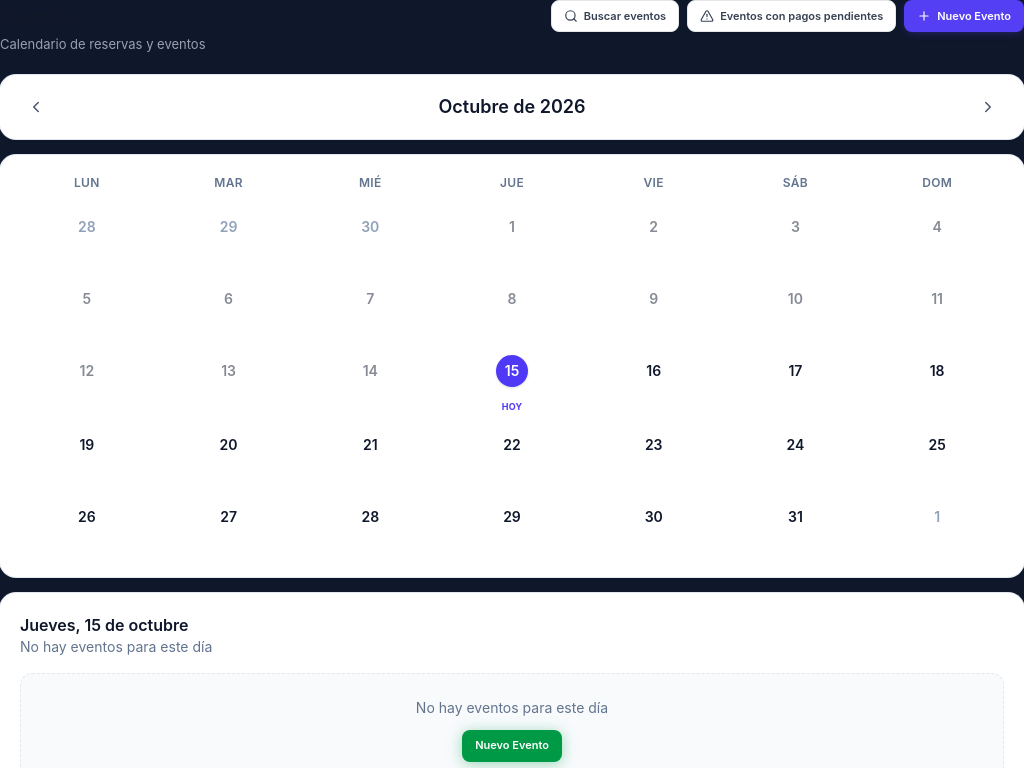
Test case: EventosPage › bloquea crear cliente si el numero tiene menos digitos de los esperados
The image size is (1024, 768).
Click the 1st button "Nuevo Evento": (964, 16) [904,0,1023,32]
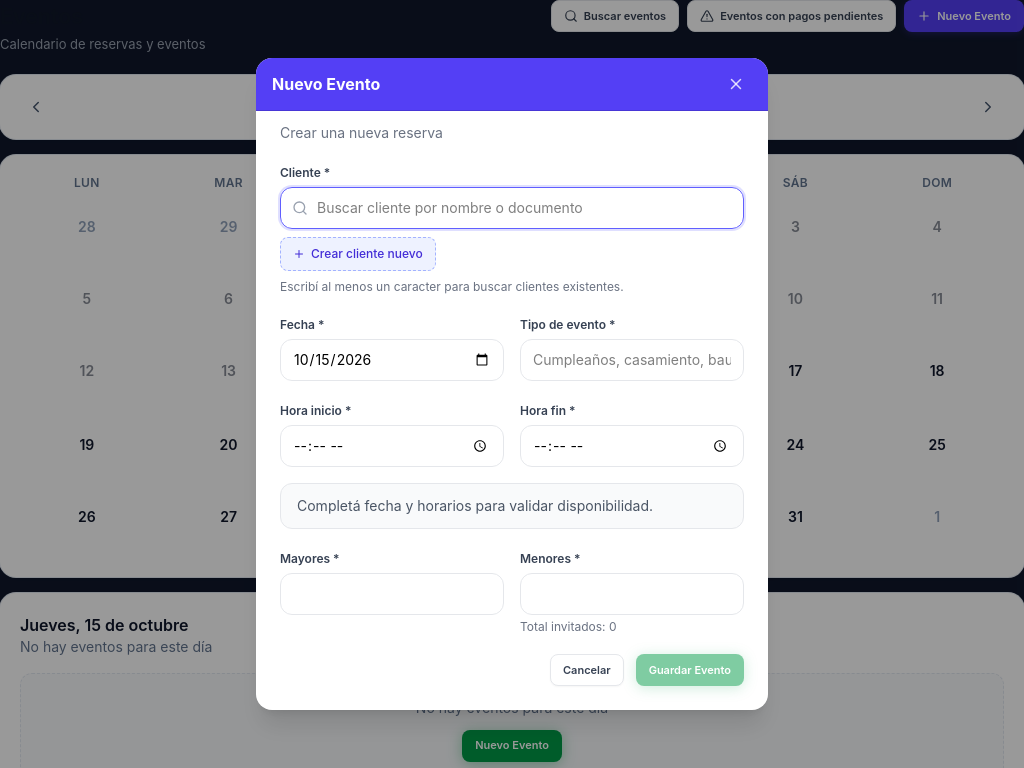
Click the button "Crear cliente nuevo": (358, 254) [280,237,436,271]
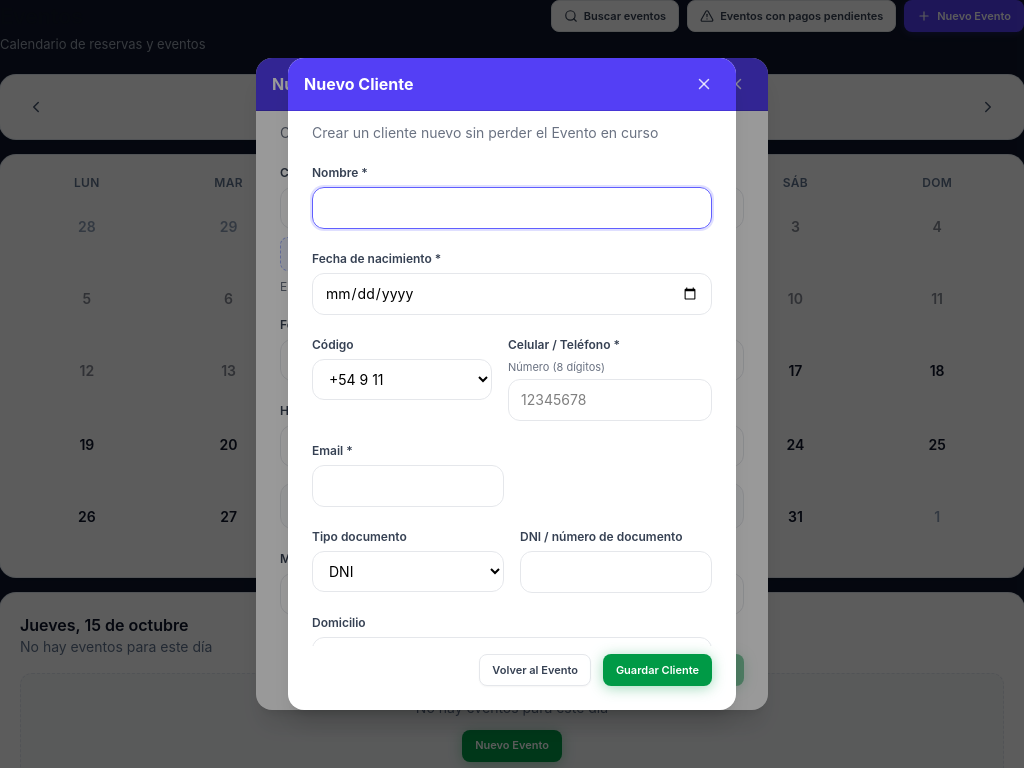
In the field labelled "Nombre *": (512, 208) [312,187,712,229], type "Cliente Nuevo"
In the date field labelled "Fecha de nacimiento *": (512, 294) [312,273,712,315], type "1990-01-01"
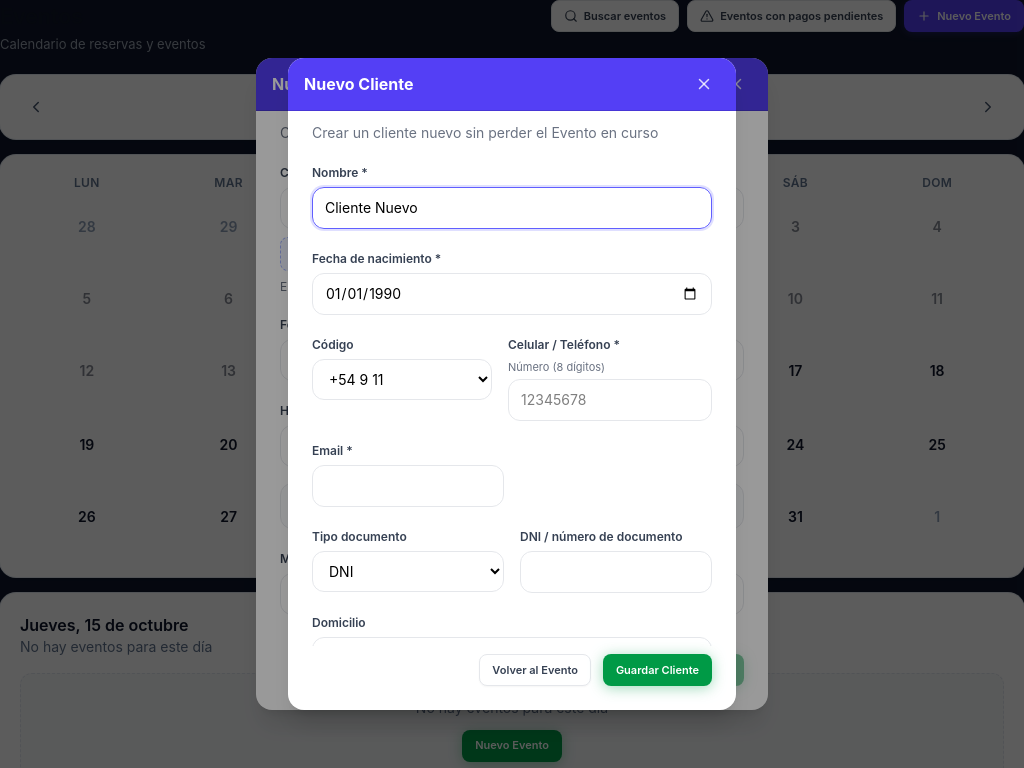
In the field labelled "Celular / Teléfono *": (610, 400) [508,379,712,421], type "1234567"
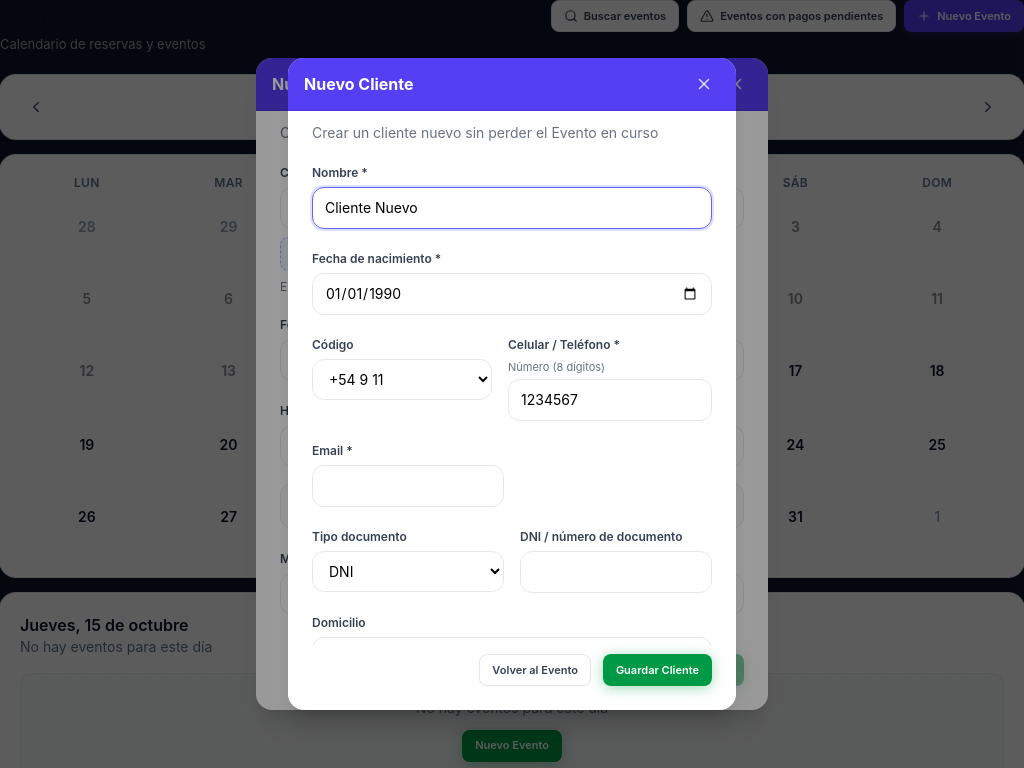
In the field labelled "Email *": (408, 486) [312,465,504,507], type "cliente@correo.com"
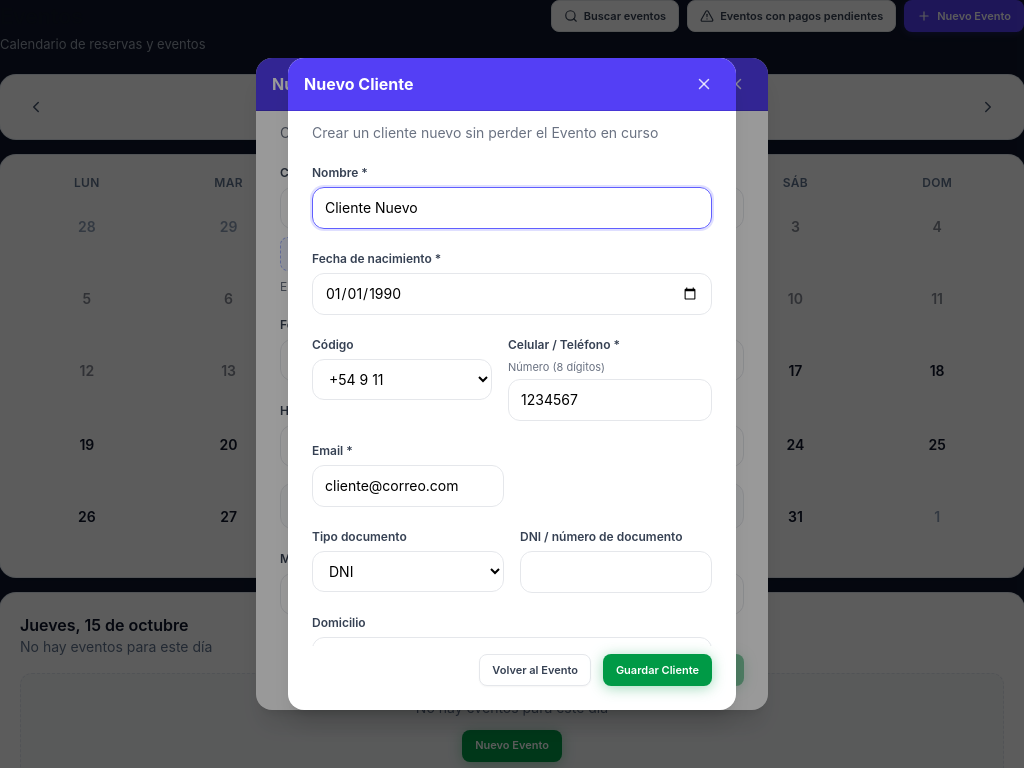
Click the button "Guardar Cliente": (657, 670) [603,654,712,686]
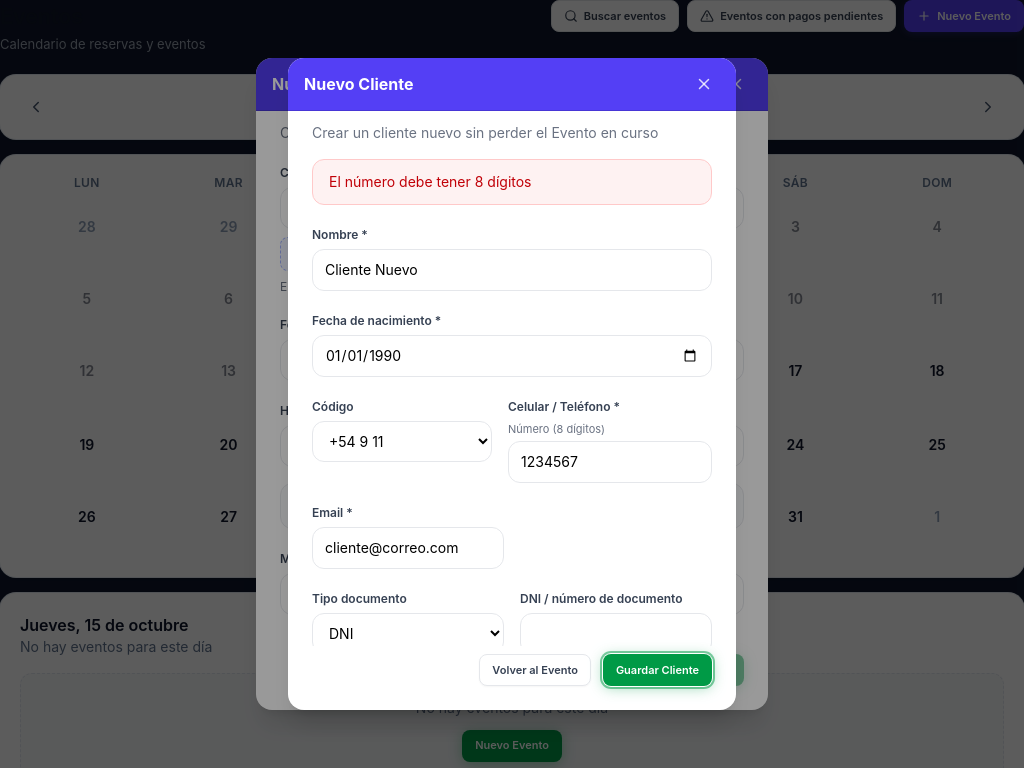
Expected: the text "El número debe tener 8 dígitos" is shown, [312,159,712,205]
